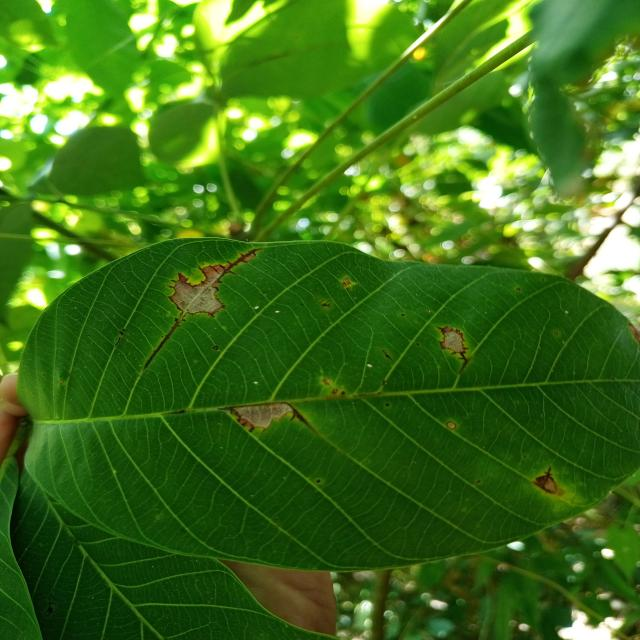Colletotrichum: (446, 421, 456, 429), (213, 345, 219, 351), (386, 403, 390, 407)
Corynespora: (142, 312, 186, 370), (215, 247, 262, 283), (436, 325, 470, 374), (220, 406, 254, 434), (286, 402, 312, 431), (533, 466, 554, 494), (383, 349, 393, 361), (321, 300, 332, 307)
Leaf-Blight: (170, 265, 222, 314), (234, 402, 292, 428), (442, 332, 465, 352), (629, 324, 640, 344)
